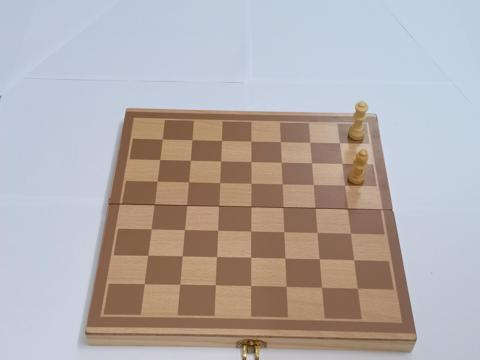xcorner: (188, 136, 198, 146), (176, 281, 186, 291), (247, 203, 257, 213), (247, 228, 257, 238), (279, 204, 289, 214), (144, 252, 154, 261), (141, 280, 150, 290), (181, 226, 190, 236), (216, 179, 225, 189), (214, 227, 223, 237), (212, 282, 221, 292), (247, 158, 256, 168), (247, 255, 257, 264), (276, 139, 286, 148), (277, 159, 287, 168), (278, 181, 288, 190), (283, 284, 293, 293), (306, 139, 315, 149), (347, 231, 357, 240), (159, 136, 168, 145), (157, 156, 166, 165), (154, 178, 163, 187), (151, 201, 160, 210), (148, 226, 157, 235), (187, 157, 196, 166), (185, 179, 194, 188), (183, 202, 192, 211), (179, 253, 188, 262), (218, 137, 227, 146), (217, 158, 226, 167), (215, 203, 224, 212), (213, 254, 222, 263), (247, 138, 256, 147), (247, 180, 256, 189), (248, 283, 257, 292), (281, 229, 290, 238), (282, 256, 291, 265), (308, 160, 317, 169), (310, 182, 319, 191), (312, 205, 321, 214), (314, 230, 323, 239), (317, 257, 326, 266), (319, 285, 328, 294), (335, 140, 344, 149), (338, 161, 347, 170), (341, 183, 350, 192), (344, 206, 353, 215), (351, 258, 360, 267), (355, 286, 364, 295)
